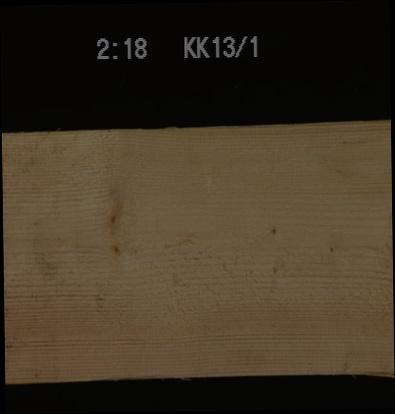small_knot: (99, 203, 126, 230), (103, 238, 130, 262), (319, 238, 342, 259), (263, 255, 284, 276), (263, 221, 284, 237)
